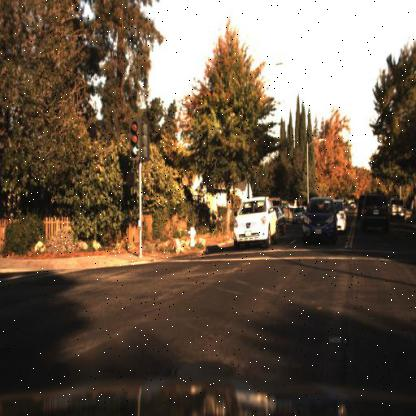car: (230, 193, 277, 250), (299, 198, 337, 245), (361, 192, 391, 234)
trafficLight-GreenLeft: (128, 114, 142, 162)
